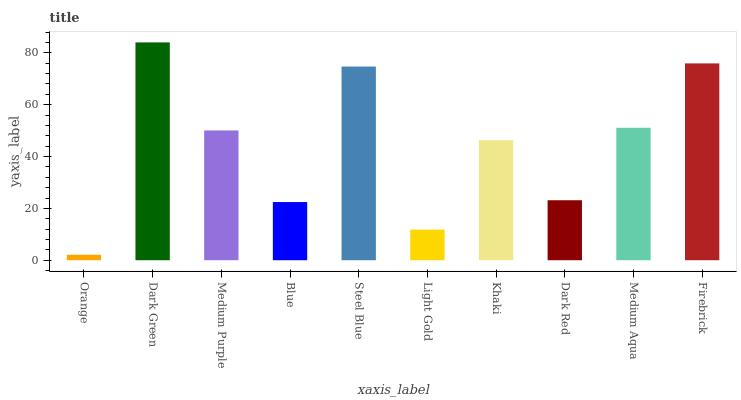axis: (40, 30, 56, 266)
label: (213, 280, 231, 372), (626, 280, 643, 362), (419, 279, 438, 346), (145, 279, 162, 352), (556, 280, 574, 342), (352, 280, 369, 345), (74, 279, 93, 328), (695, 280, 710, 337), (281, 279, 301, 314), (490, 279, 506, 318)
rectangle: (136, 42, 170, 261), (685, 62, 720, 260), (342, 66, 376, 260), (204, 129, 238, 261), (478, 139, 514, 260), (617, 129, 650, 260), (272, 201, 308, 260), (548, 199, 582, 260), (410, 230, 445, 260), (67, 255, 101, 260)
title: (42, 5, 86, 28)
